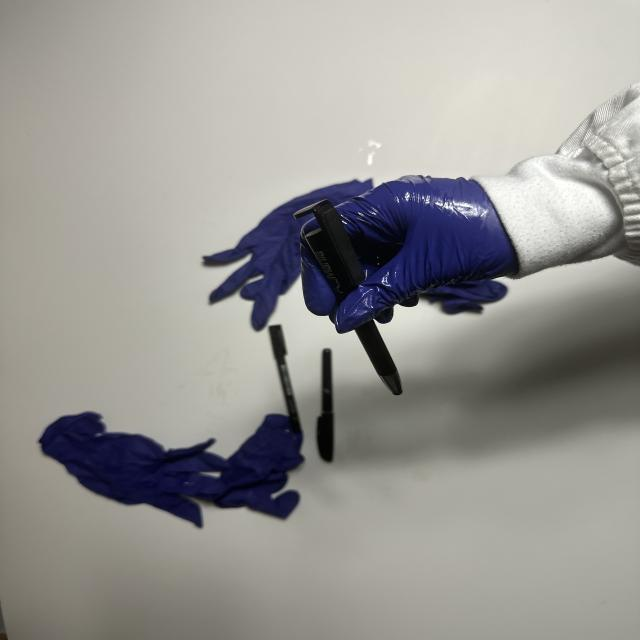gloves_contaminated: (301, 176, 518, 332)
